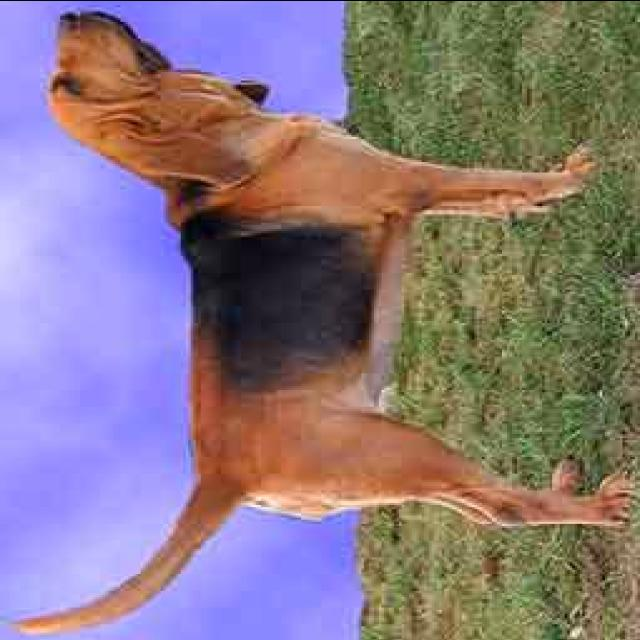bloodhound: (8, 6, 638, 640)
